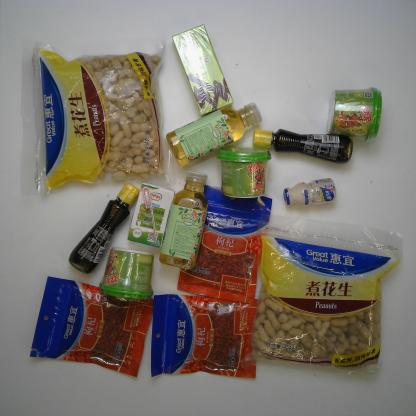Dried Food: (242, 212, 402, 383), (32, 40, 174, 195)
Dried Fruit: (29, 276, 154, 378), (177, 184, 273, 304), (150, 294, 258, 379)
Drink: (166, 102, 262, 166), (159, 170, 208, 270)
Instant Drink: (172, 23, 233, 117), (99, 246, 154, 301), (327, 87, 382, 142), (217, 146, 272, 198)
Milk: (126, 182, 174, 248), (283, 178, 337, 206)
Seasoner: (68, 182, 140, 274), (252, 128, 353, 164)
